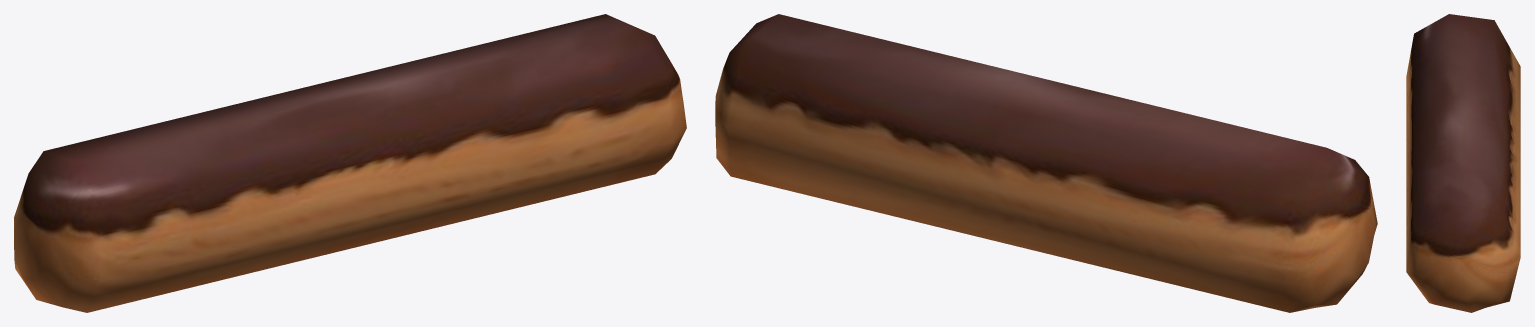
Rendered from eclair.glb.
3 renders of one model, left to right at view 1: azimuth 30°, elevation 25°; view 2: azimuth 150°, elevation 25°; view 3: azimuth 270°, elevation 25°, orthographic. The views are drawn at different scales.
Parts seen in each view (by area): view 1: eclair; view 2: eclair; view 3: eclair.
Part boxes in pixels (x1,y1,x2,y2): eclair: (14, 14, 686, 312); eclair: (715, 14, 1377, 312); eclair: (1406, 14, 1520, 312).
Bounding box in the file's own units: 0.3783 × 0.0834 × 0.0827.
1 material, 1 textured.
